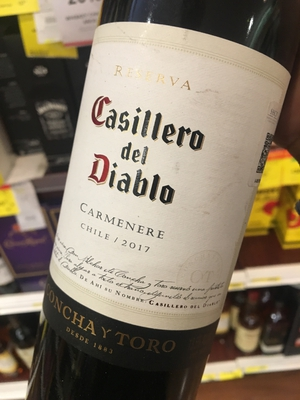casillero del diablo carmenere: (38, 16, 276, 400)
